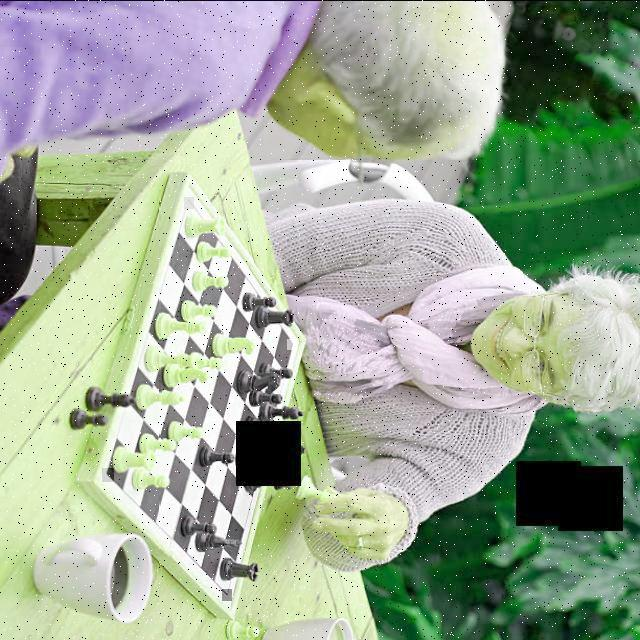chess-table-corners: (102, 467, 114, 481), (222, 588, 232, 600), (184, 196, 194, 208), (287, 338, 297, 349)
